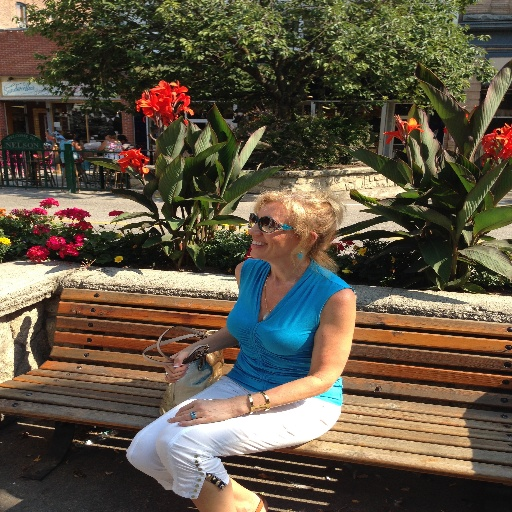hand: (167, 338, 217, 377), (167, 397, 231, 426)
